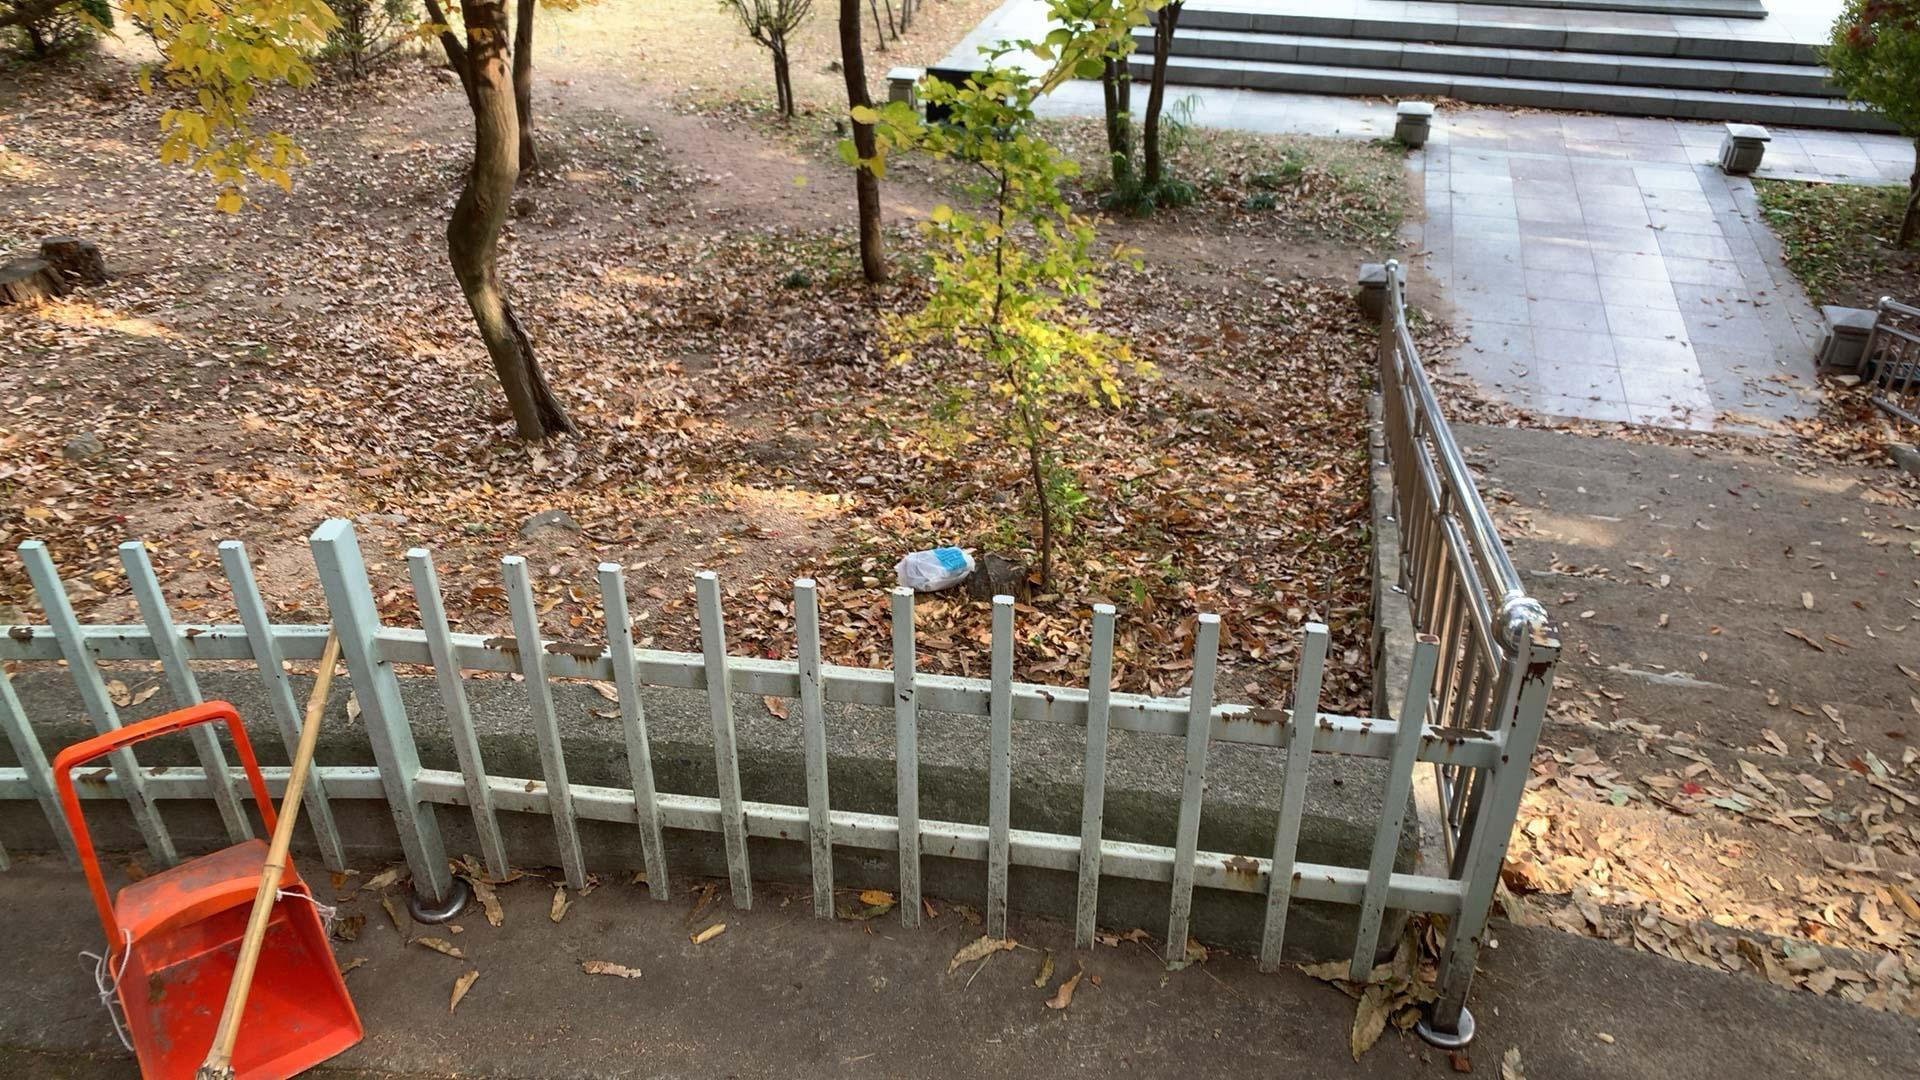white_bag: (889, 545, 977, 593)
